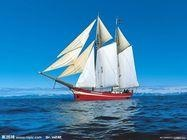fanchuan: (43, 17, 140, 102)
